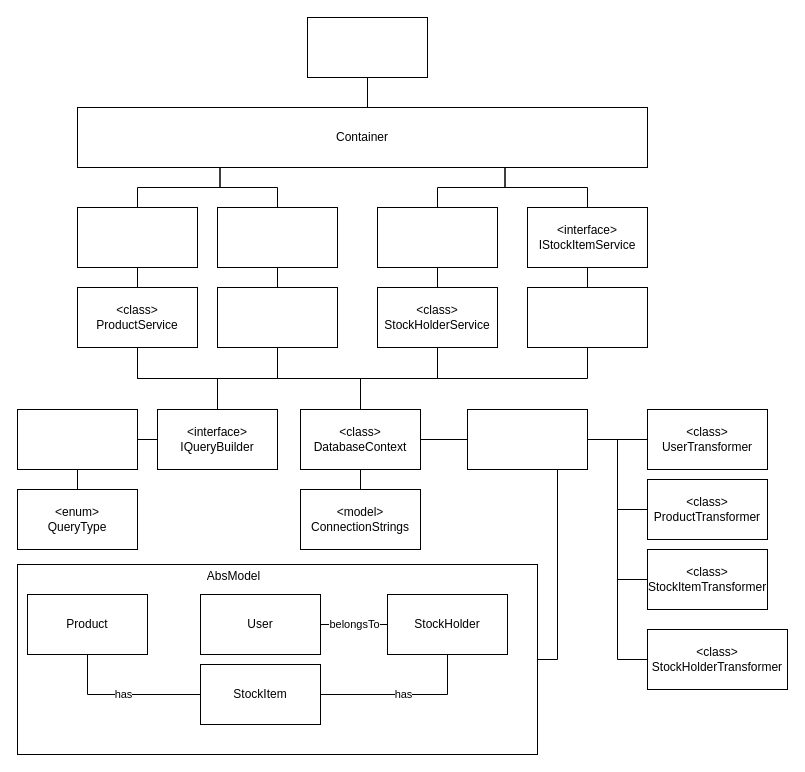
The diagram is 805 pixels wide and 772 high, and some of its shapes have lost their labels. The shapes that lost their labels are listed below. From the top down, each one's centre as x and y in pixels, then its label:
At pixel 367 47: "Controller".
At pixel 137 237: "<interface> IProductService".
At pixel 277 237: "<interface> IUserService".
At pixel 437 237: "<interface> IStockHolderService".
At pixel 277 317: "<class> UserService".
At pixel 587 317: "<class> StockItemService".
At pixel 77 439: "<class> QueryBuilder".
At pixel 527 439: "<interface> ITransformer".
